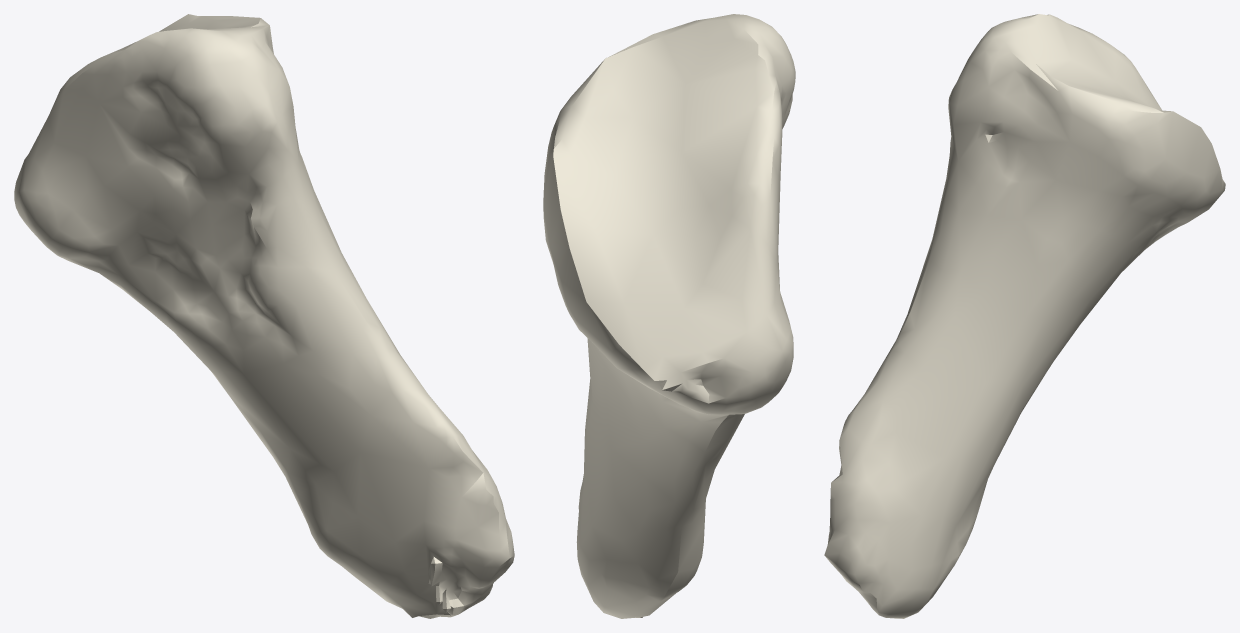
File: fma23951_mm1906m.glb
3 views of the same model, side by side, from view 1: azimuth 30°, elevation 25°; view 2: azimuth 150°, elevation 25°; view 3: azimuth 270°, elevation 25° (orthographic). The views are drawn at different scales.
Visible parts, largest first — view 1: FMA23951_MM1906M; view 2: FMA23951_MM1906M; view 3: FMA23951_MM1906M.
Part boxes in pixels (x1,y1,x2,y2): FMA23951_MM1906M: [14, 14, 514, 618]; FMA23951_MM1906M: [543, 14, 795, 618]; FMA23951_MM1906M: [824, 14, 1225, 618].
Bounding box in the file's own units: 0.0138 × 0.0232 × 0.0162.
